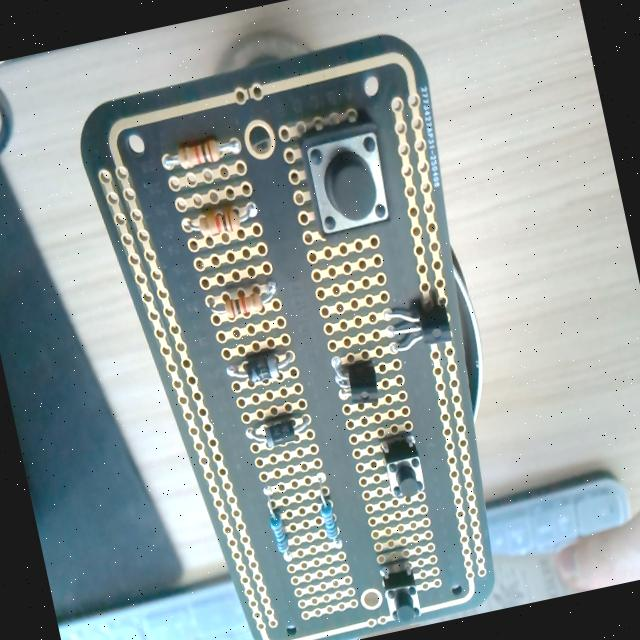diode: (224, 345, 299, 389), (245, 412, 313, 450)
resistor: (184, 198, 260, 242), (206, 278, 281, 322), (163, 133, 240, 171), (260, 482, 292, 562), (311, 473, 343, 550)
switch: (299, 122, 396, 237), (378, 431, 427, 500), (379, 562, 423, 624)
transistor: (380, 297, 452, 356), (327, 347, 386, 409)
